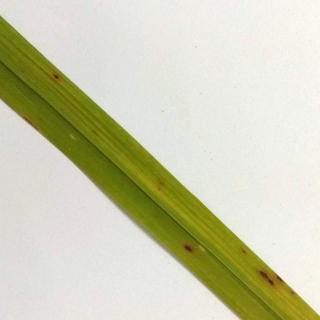Blast: (234, 244, 293, 298), (159, 224, 201, 261)
